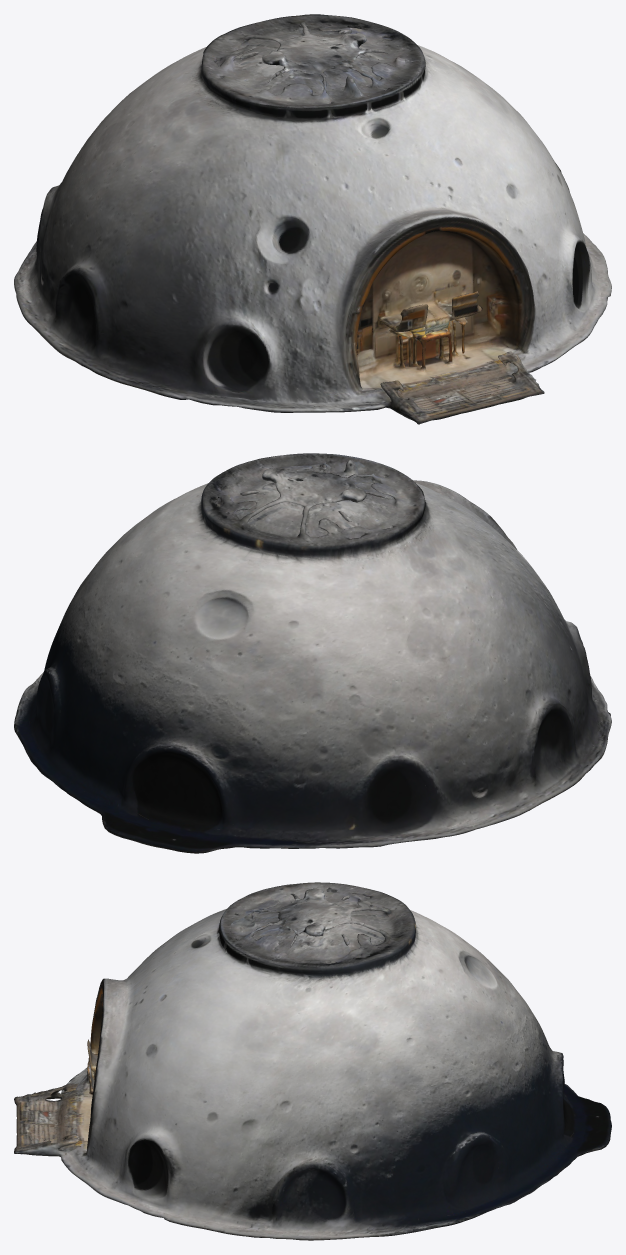
File: a_place_in_the_moon_1118043843_refine.glb
The picture shows the model from 3 angles, top to bottom: view 1: azimuth 30°, elevation 25°; view 2: azimuth 150°, elevation 25°; view 3: azimuth 270°, elevation 25°; orthographic projection. The views are drawn at different scales.
Bounding box in the file's own units: 1.78 × 0.8065 × 1.99.
Materials: 1 (1 with a texture image).
